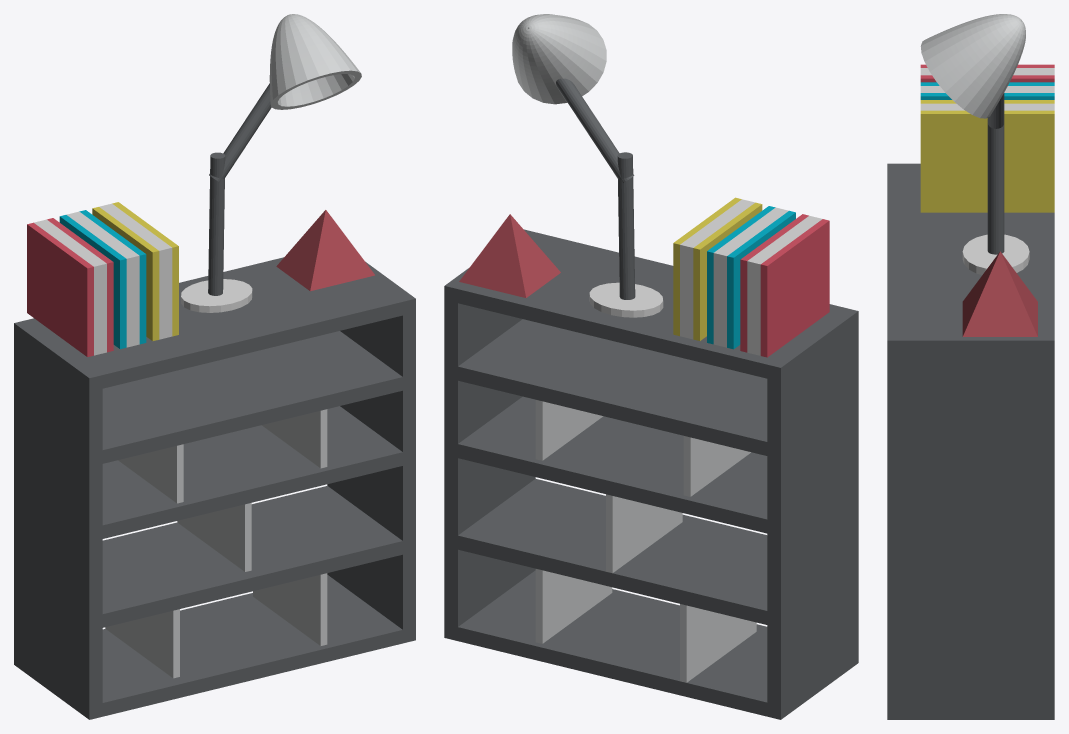
The model's file is glb-form.glb.
The picture shows the model from 3 angles, left to right: view 1: azimuth 30°, elevation 25°; view 2: azimuth 150°, elevation 25°; view 3: azimuth 270°, elevation 25°; orthographic projection. The views are drawn at different scales.
Visible parts, largest first — view 1: Mesh_Mesh_head_geo.001_lambert2SG.001; view 2: Mesh_Mesh_head_geo.001_lambert2SG.001; view 3: Mesh_Mesh_head_geo.001_lambert2SG.001.
Boxes of the visible parts, x1,y1,x2,y2 form: Mesh_Mesh_head_geo.001_lambert2SG.001: (14,14,415,719); Mesh_Mesh_head_geo.001_lambert2SG.001: (444,14,858,719); Mesh_Mesh_head_geo.001_lambert2SG.001: (887,14,1054,719).
Bounding box in the file's own units: 50 × 87.96 × 20.
